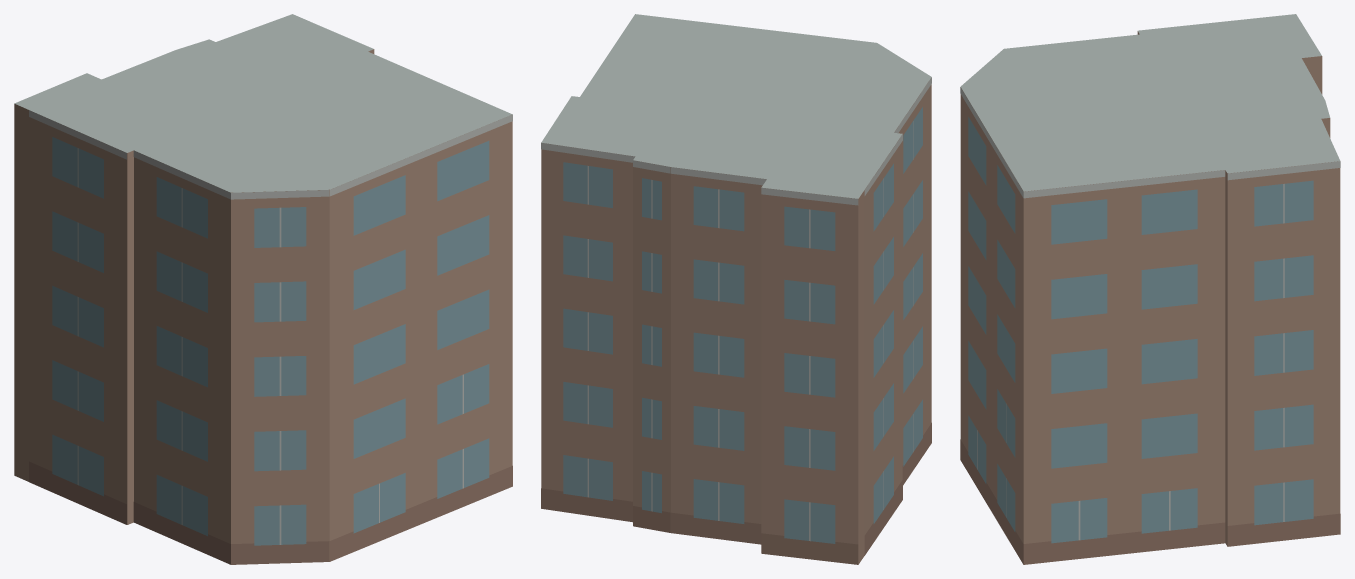
Rendered from survey-upis-32653279.glb.
3 views of the same model, side by side, from view 1: azimuth 30°, elevation 25°; view 2: azimuth 150°, elevation 25°; view 3: azimuth 270°, elevation 25° (orthographic).
Parts seen in each view (by area): view 1: survey-upis-32653279.tmp; view 2: survey-upis-32653279.tmp; view 3: survey-upis-32653279.tmp.
Boxes of the visible parts, <box> form: survey-upis-32653279.tmp: <box>14,14,512,564</box>; survey-upis-32653279.tmp: <box>541,14,931,564</box>; survey-upis-32653279.tmp: <box>960,14,1340,564</box>.
Size of the model in its own units: 13.63 by 13.35 by 12.33.
